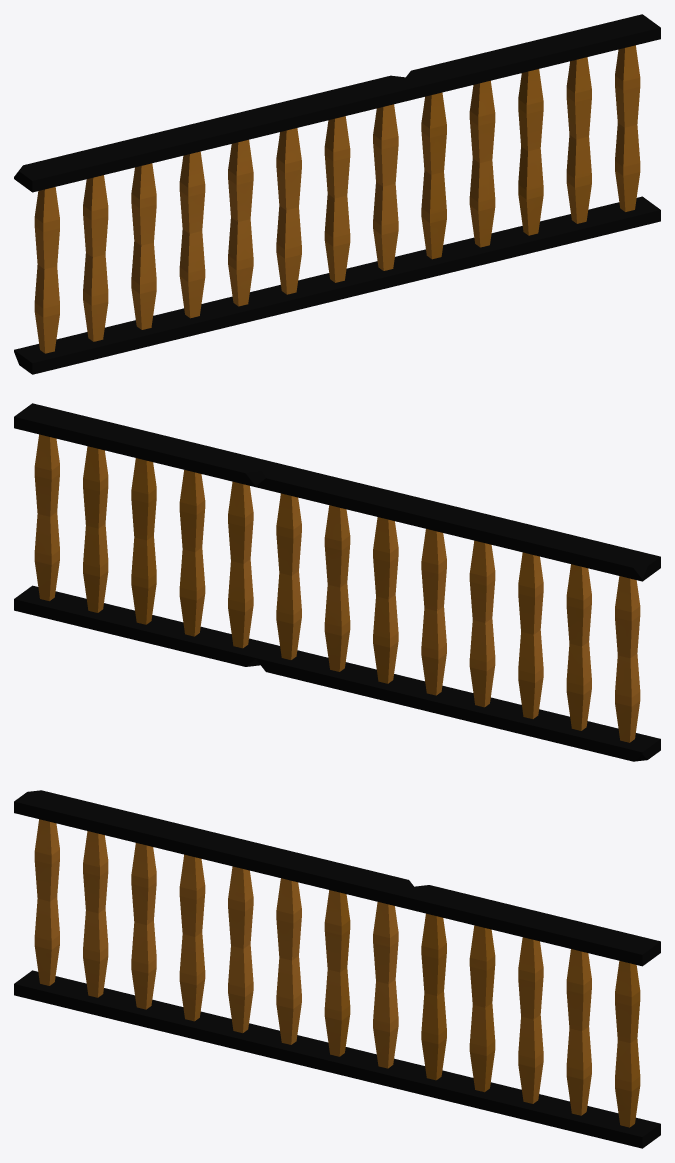
The model's file is Guard_Rail_.fbx.
3 views of the same model, one above another, from view 1: azimuth 30°, elevation 25°; view 2: azimuth 150°, elevation 25°; view 3: azimuth 330°, elevation 25° (orthographic).
Visible parts, largest first — view 1: Guard Rail; view 2: Guard Rail; view 3: Guard Rail.
Part boxes in pixels (left/top/right/bottom): Guard Rail: left=14, top=14, right=660, bottom=374; Guard Rail: left=14, top=403, right=660, bottom=761; Guard Rail: left=14, top=790, right=660, bottom=1148.
Bounding box in the file's own units: 289 × 85.04 × 14.67.
